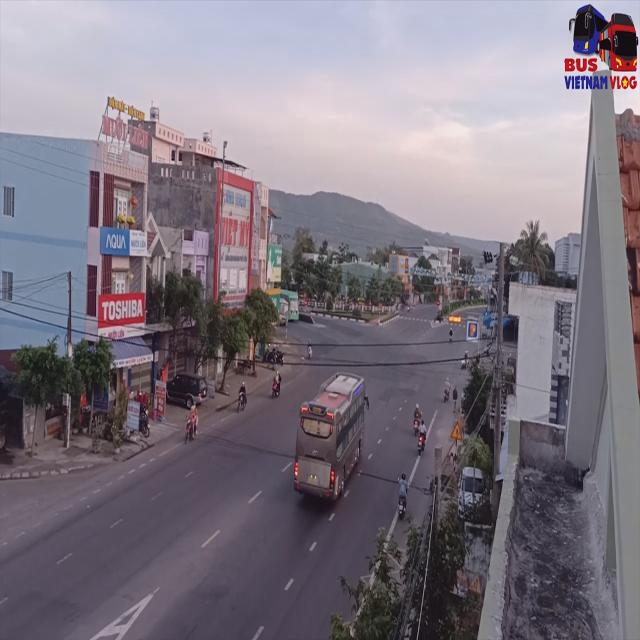bus: (294, 372, 369, 504)
car: (573, 0, 634, 35)
motorbike: (185, 406, 197, 444), (398, 473, 407, 520), (237, 379, 249, 413), (417, 418, 428, 454), (271, 373, 283, 402)
